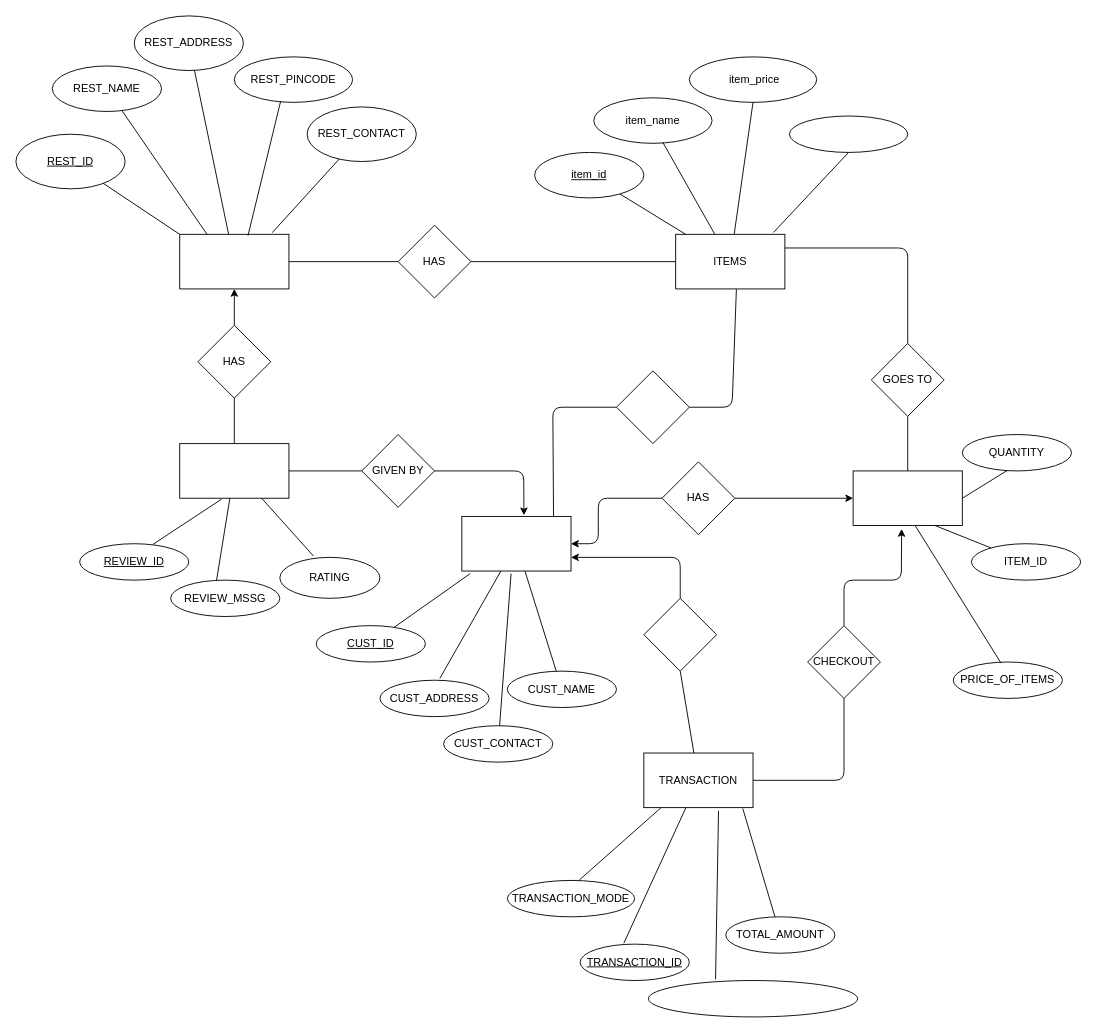
The diagram is 1097 pixels wide and 1033 high, and some of its shapes have lost their labels. The shapes that lost their labels are listed below. From the top down, each one's box as (x1, y1, x2, y2) in pixels, then its label:
(789, 115, 908, 152): item_description
(179, 233, 289, 289): RESTAURANTS
(616, 370, 689, 444): SELECT
(179, 443, 289, 498): REVIEWS
(852, 470, 962, 526): CART
(461, 516, 571, 571): CUSTOMERS
(643, 597, 717, 671): makes payment
(647, 980, 858, 1017): TRANSACTION_TIMESTAMP
